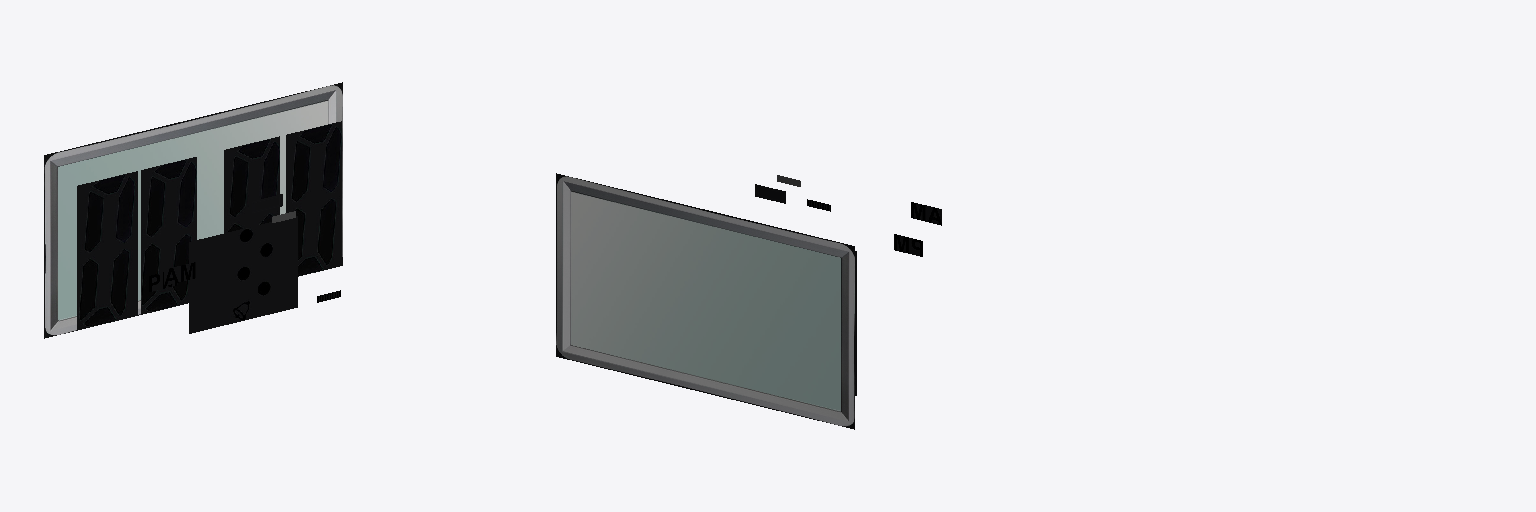
3 views of the same model, side by side, from view 1: azimuth 30°, elevation 25°; view 2: azimuth 150°, elevation 25°; view 3: azimuth 270°, elevation 25° (orthographic).
Parts seen in each view (by area): view 1: clockface, alarm, h1, m2, h2, m1, dt1, am; view 2: clockface; view 3: none.
Boxes of the visible parts, <box> form: clockface: <box>44,82,342,338</box>; alarm: <box>189,216,297,333</box>; h1: <box>77,171,137,329</box>; m2: <box>286,121,341,276</box>; h2: <box>141,157,196,314</box>; m1: <box>224,136,279,232</box>; dt1: <box>258,241,272,296</box>; am: <box>164,262,195,285</box>; clockface: <box>556,173,854,429</box>.
Bounding box in the file's own units: 2 × 1.17 × 1.44.
Materials: 1 (1 with a texture image).